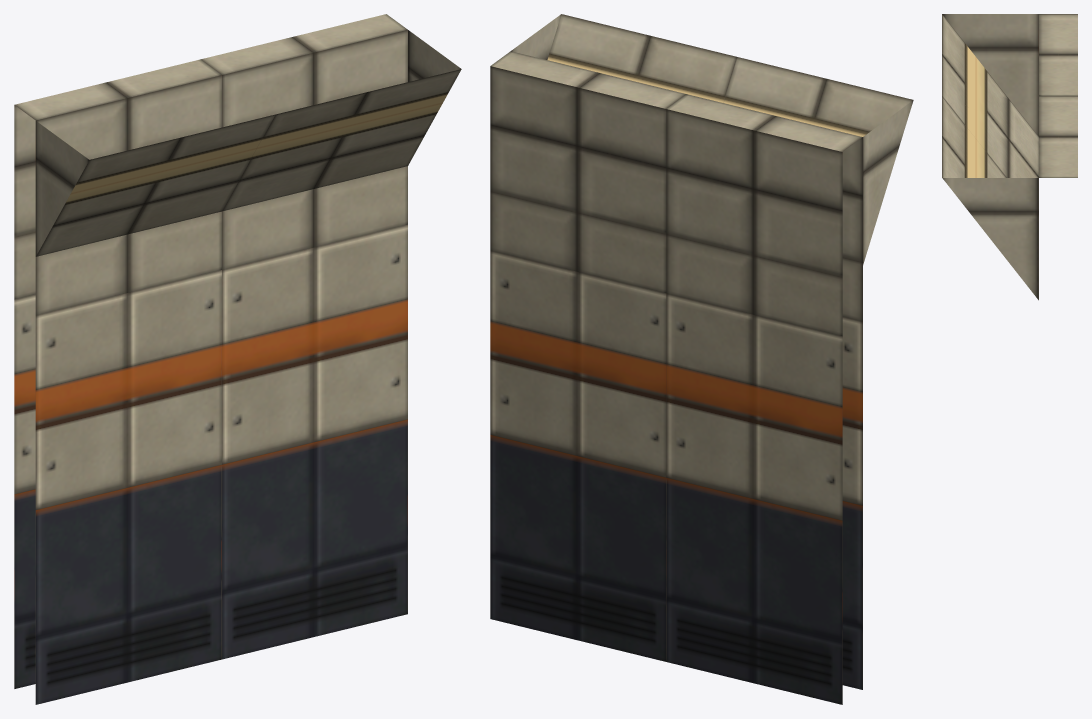
Rendered from wall_corridor_lights.fbx.
3 renders of one model, left to right at view 1: azimuth 30°, elevation 25°; view 2: azimuth 150°, elevation 25°; view 3: azimuth 270°, elevation 25°, orthographic. The views are drawn at different scales.
Visible parts, largest first — view 1: wall_corridor_lights; view 2: wall_corridor_lights; view 3: wall_corridor_lights.
Part boxes in pixels (x1=…): wall_corridor_lights: x1=14, y1=14, x2=461, y2=704; wall_corridor_lights: x1=490, y1=14, x2=913, y2=704; wall_corridor_lights: x1=942, y1=14, x2=1077, y2=300.
Bounding box in the file's own units: 2 × 3 × 0.7.
